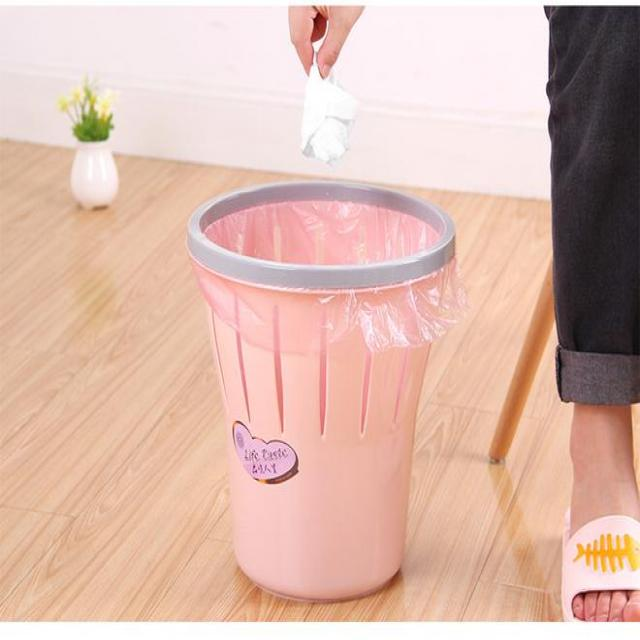Dustbin: (182, 175, 460, 605)
